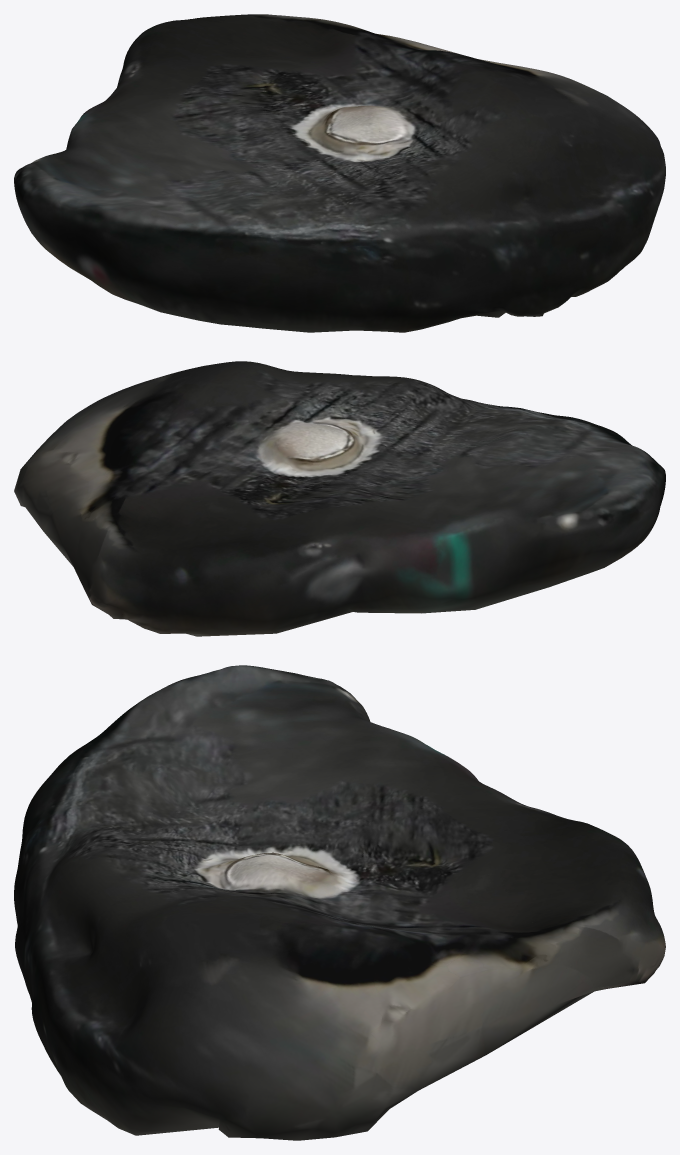
3 views of the same model, one above another, from view 1: azimuth 30°, elevation 25°; view 2: azimuth 150°, elevation 25°; view 3: azimuth 270°, elevation 25° (orthographic). The views are drawn at different scales.
Bounding box in the file's own units: 0.333 × 0.0858 × 0.2686.
1 material, 1 textured.
